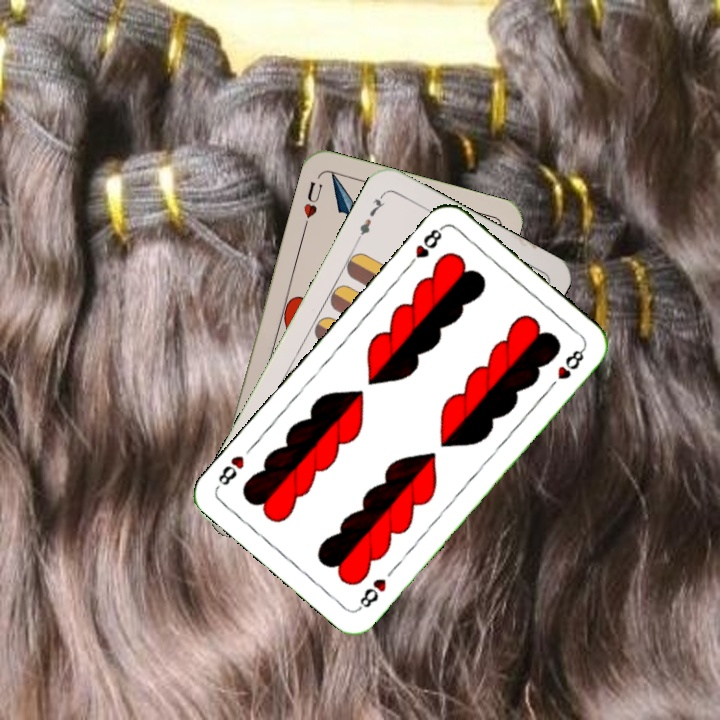E7: (352, 189, 388, 244)
H8: (403, 222, 446, 271), (354, 574, 389, 613)
HU: (299, 177, 326, 231)
